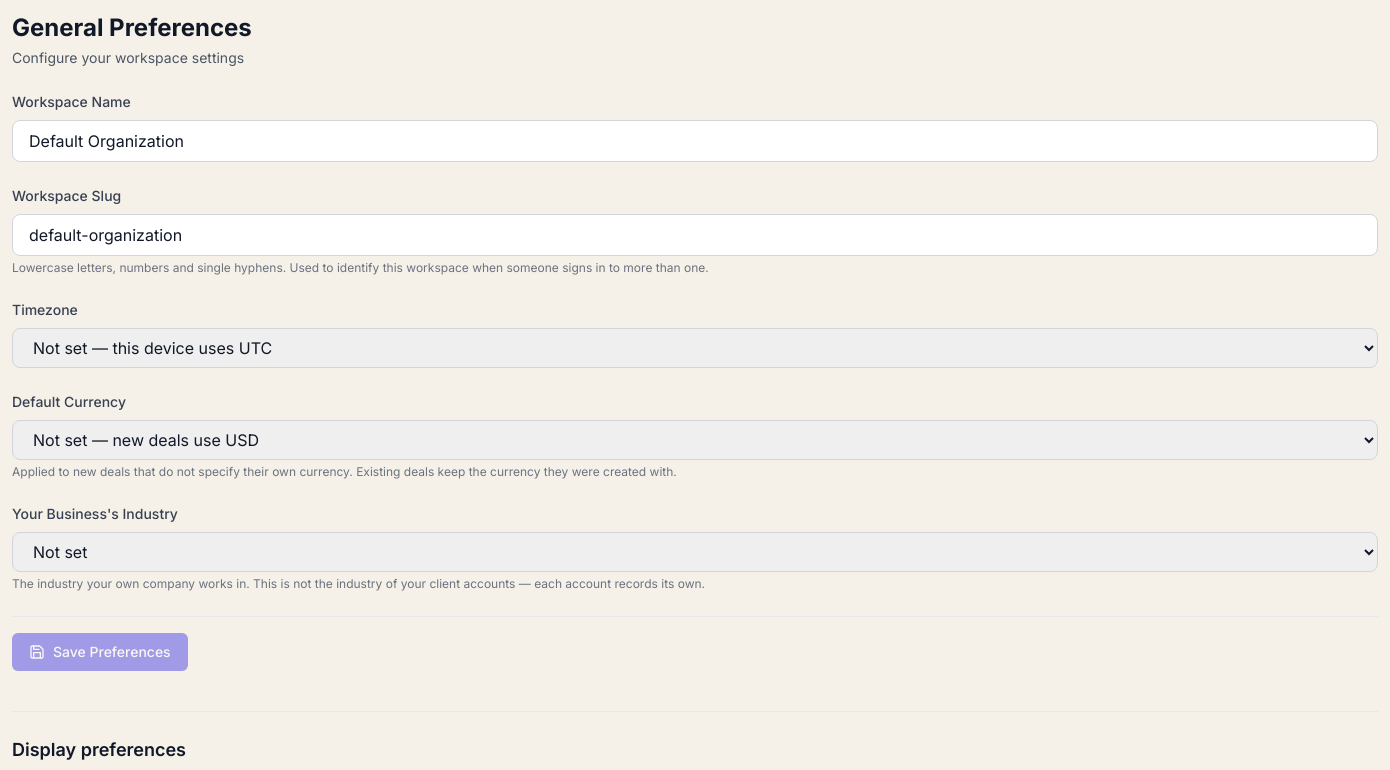
Scenario: GeneralPreferences — workspace settings › renders the SERVER's value, not the typed one, when they differ
Replace the text in the field labelled "Workspace Name" with "whatever i typed" at {"x": 695, "y": 141}, box x1=12 y1=120 x2=1378 y2=162
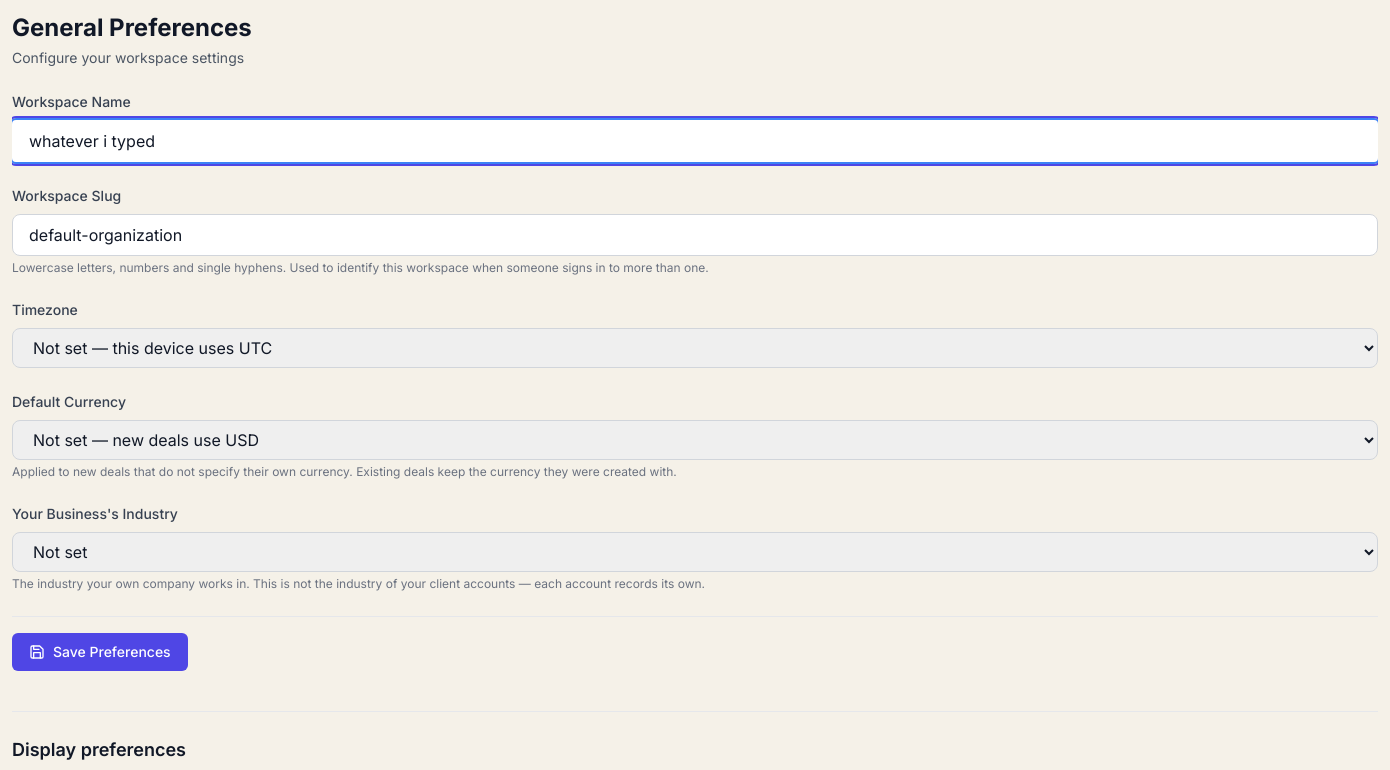
Click the button "Save Preferences".
click(100, 652)  # box x1=12 y1=633 x2=188 y2=671
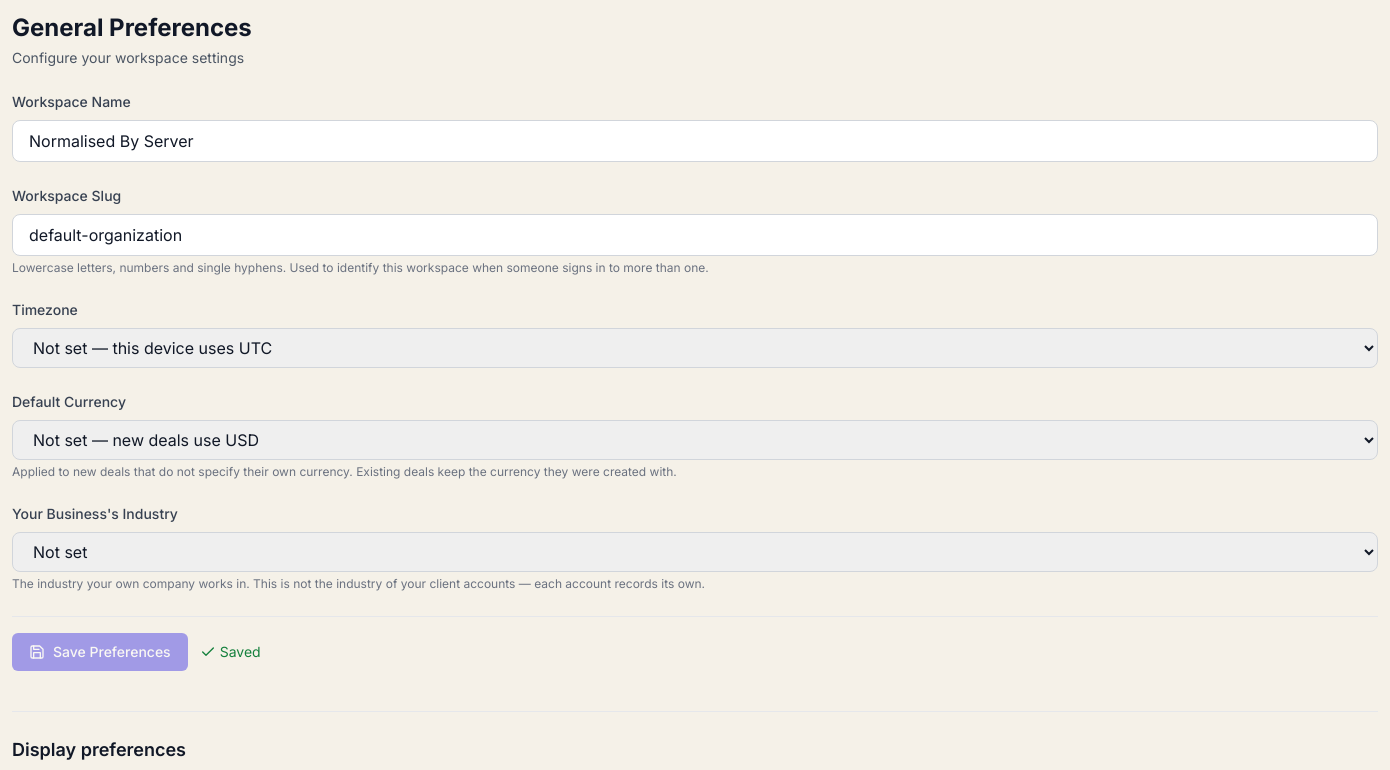
Now the field labelled "Workspace Name" holds "Normalised By Server", box x1=12 y1=120 x2=1378 y2=162
